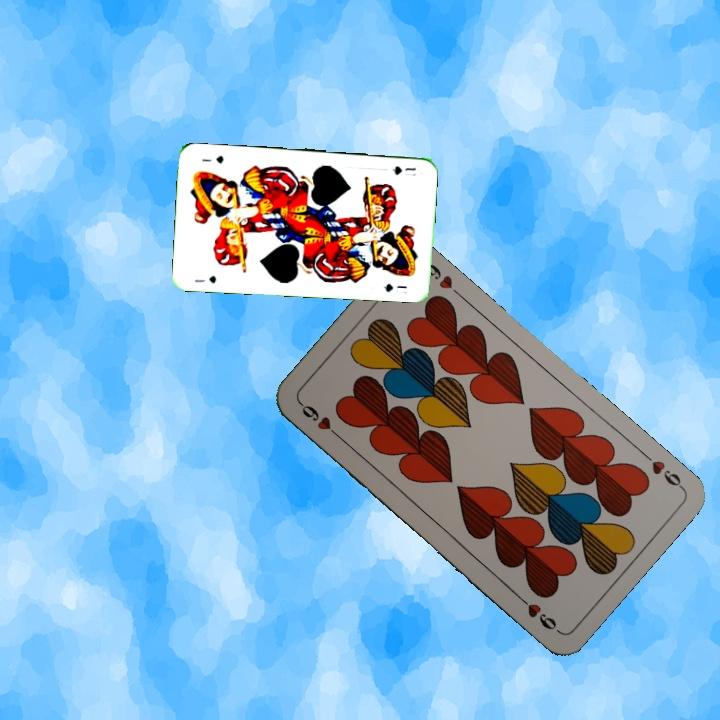GU: (190, 271, 219, 286), (388, 162, 418, 176)
H9: (637, 447, 685, 492), (296, 398, 344, 442)
